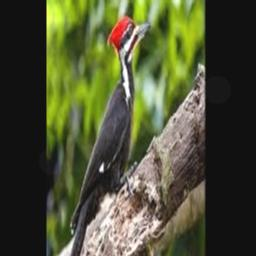Woodpecker: (60, 14, 151, 256)
